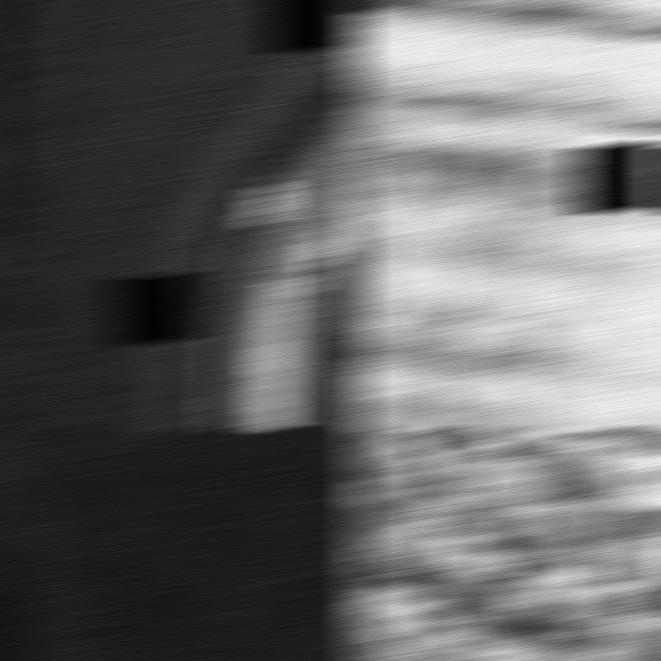AirbagV2: (0, 1, 364, 428), (0, 430, 364, 660), (347, 430, 661, 660)
